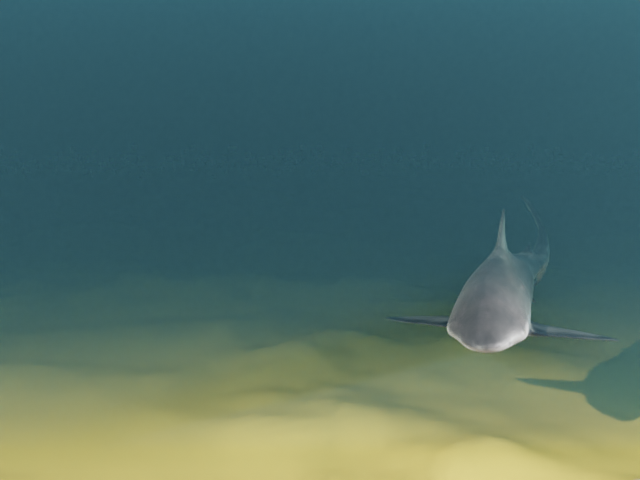Carribean Shark.001: (383, 195, 619, 353)
